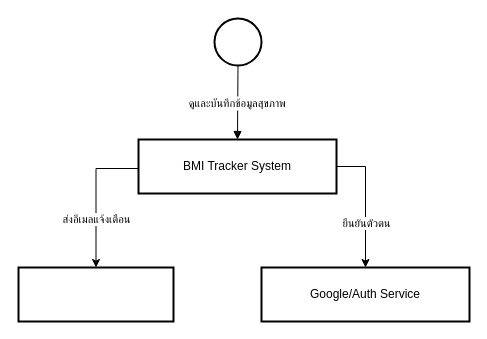
This 487x339 diagram has some shape labels left out. Here are the shapes that lost their labels. From the top down, the centre of each, then its label:
At [237,41]: "User".
At [95,294]: "Email System".
